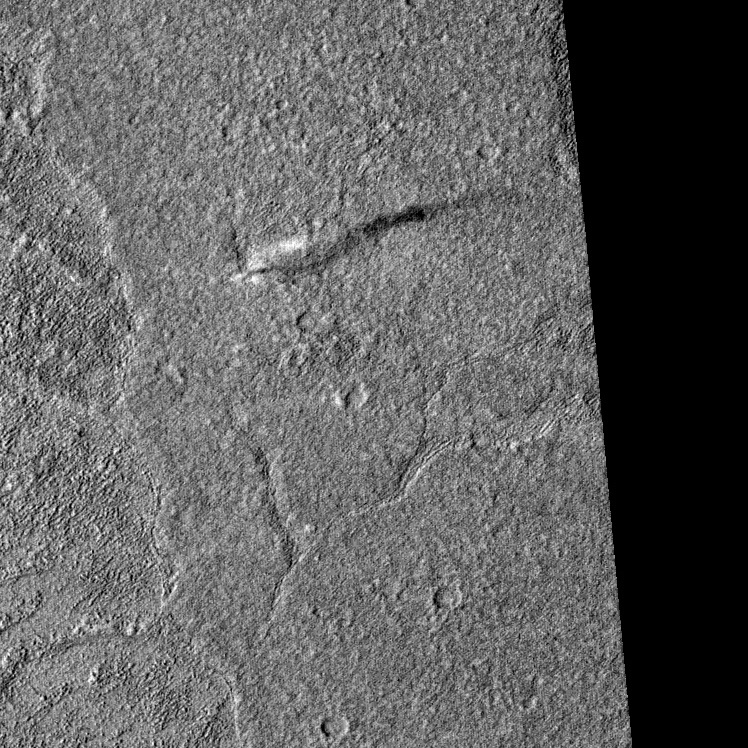dust_devil: (227, 183, 491, 288)
